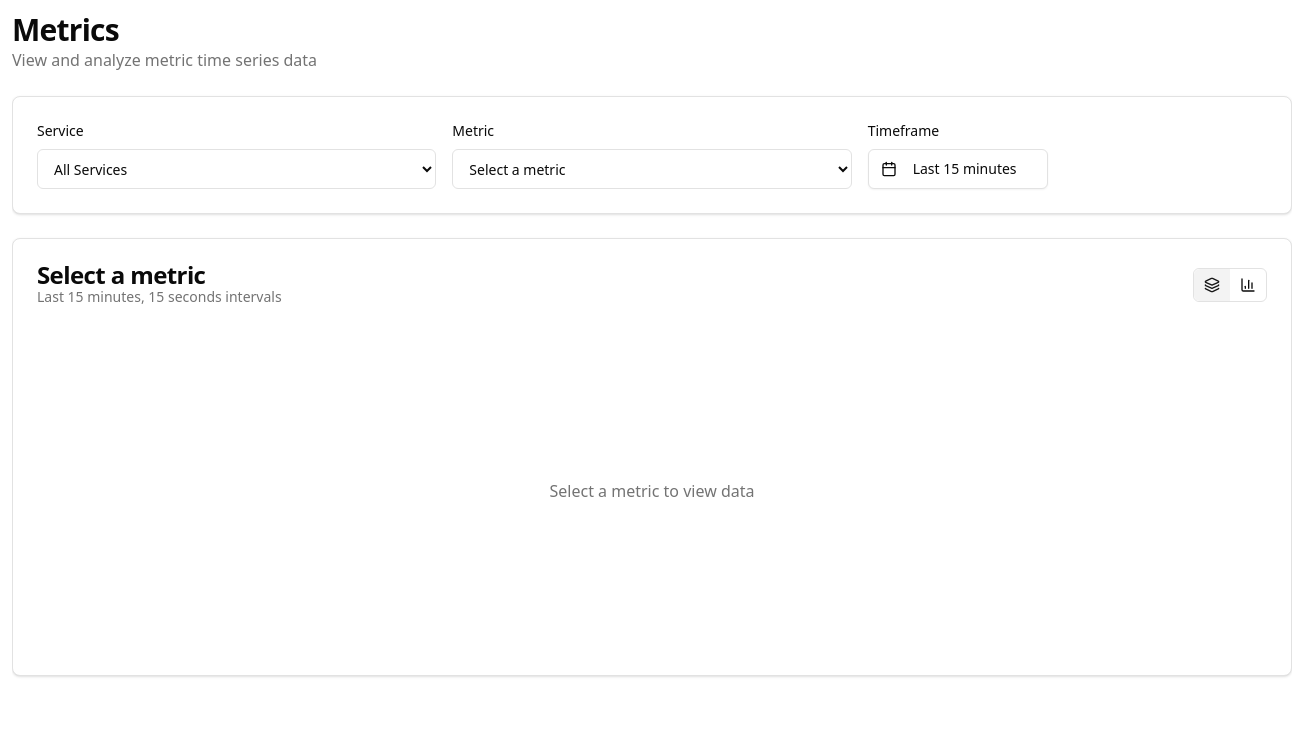
Test: MetricsPage › displays no data message when metric has no data
This screenshot has width=1292, height=732.
Select "Tokens Total" in the 2nd dropdown at (652, 169), box [452,149,852,189]
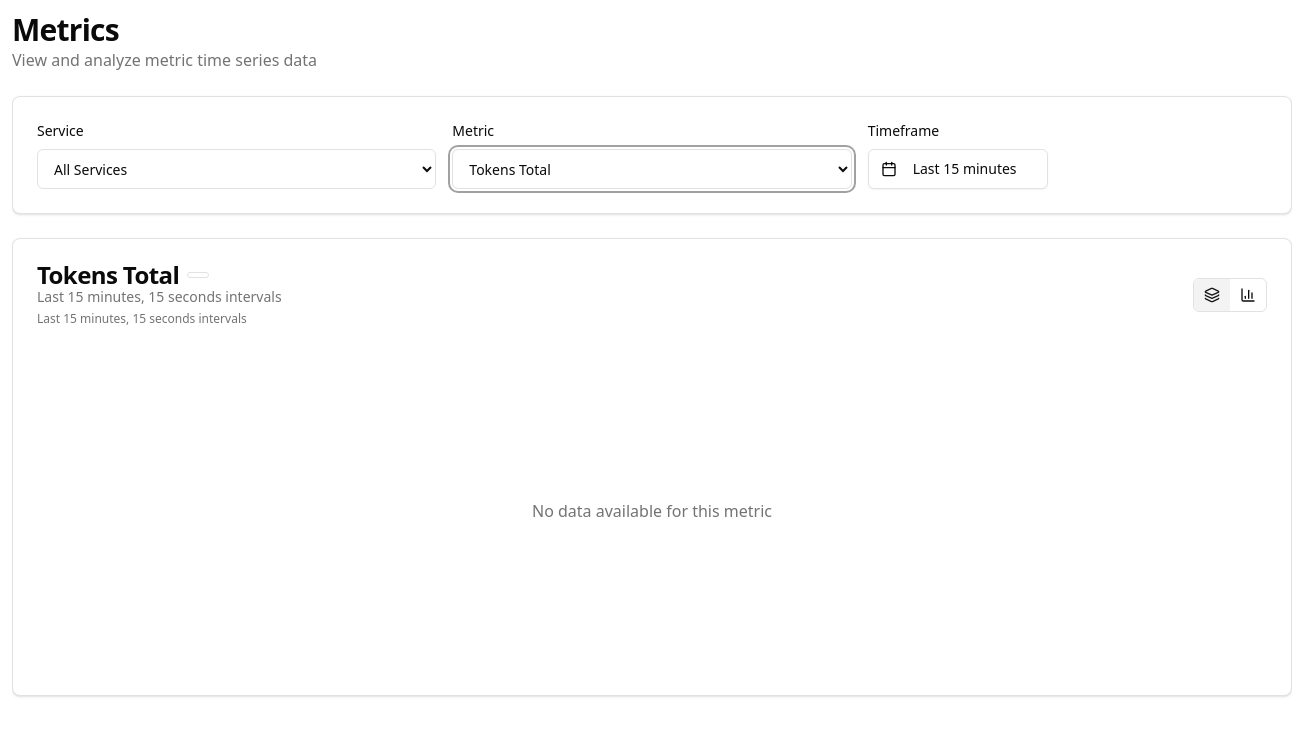
Result: the text "No data available for this metric" is shown at [532,500,772,522]
